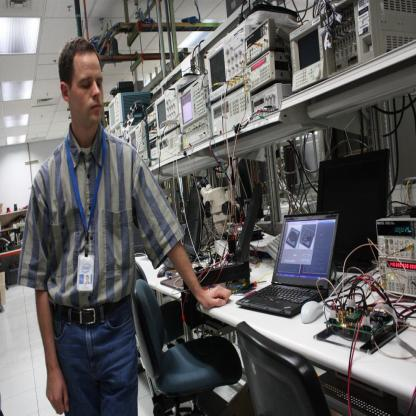board: (235, 212, 338, 316)
